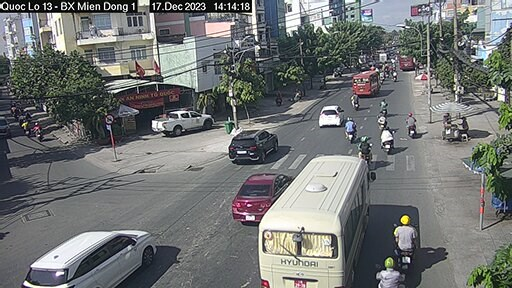car: (283, 154, 369, 287), (39, 228, 163, 287), (229, 171, 292, 221), (151, 109, 217, 137), (227, 131, 282, 164), (353, 70, 382, 97), (317, 104, 344, 127)
motorbike: (394, 217, 419, 271), (404, 108, 422, 143), (358, 134, 376, 165), (379, 123, 397, 152), (343, 115, 356, 139), (372, 99, 390, 115), (347, 93, 362, 108)
